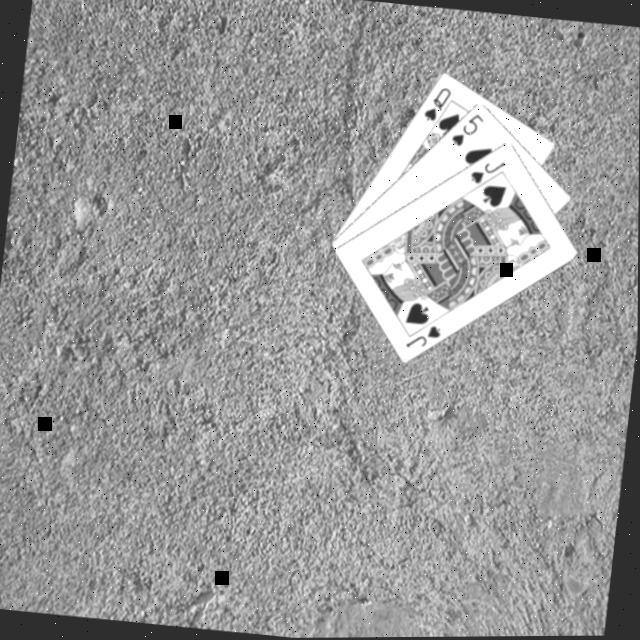5S: (446, 108, 486, 152)
JS: (402, 318, 444, 354), (466, 154, 508, 188)
QS: (418, 80, 454, 124)
